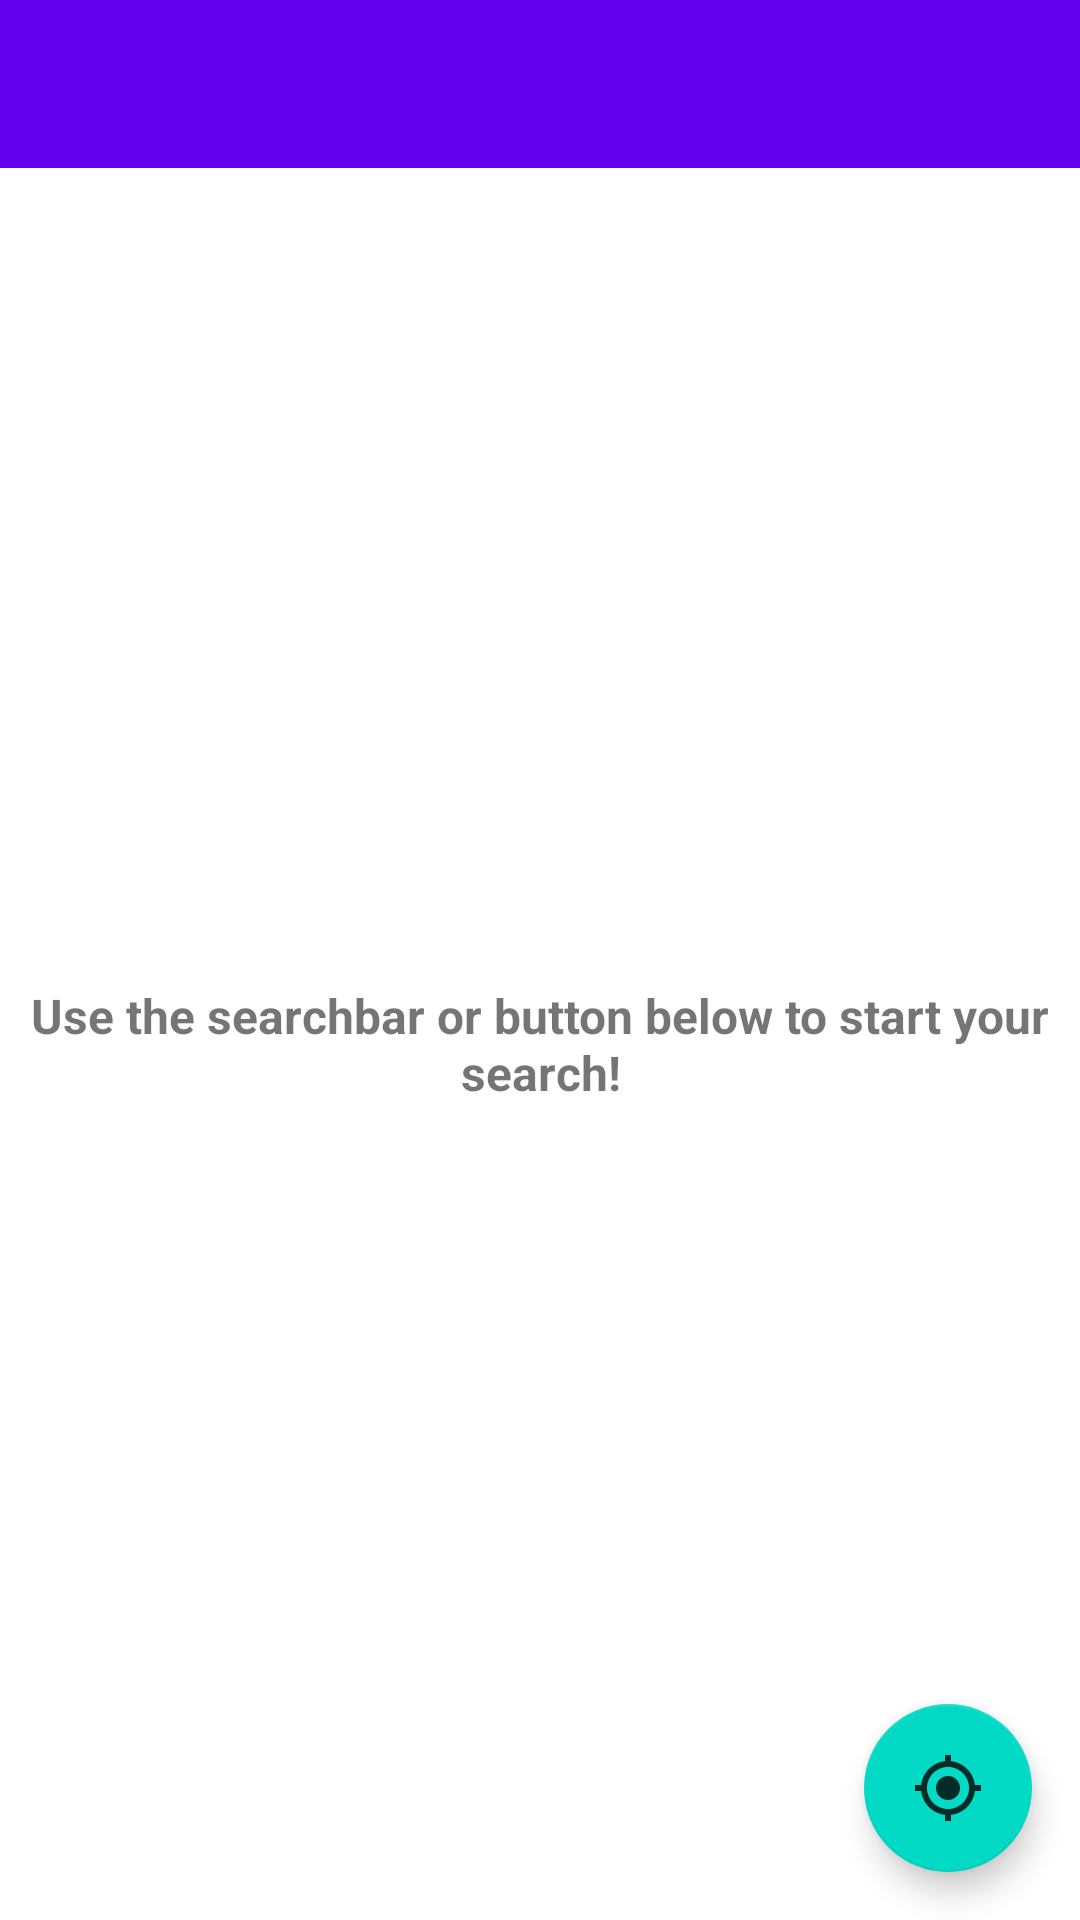

Where icons sit on this 1080 x 1920 app screen, as bbox(x1, y1, x2, y2):
Use location button: bbox(864, 1704, 1032, 1872)
